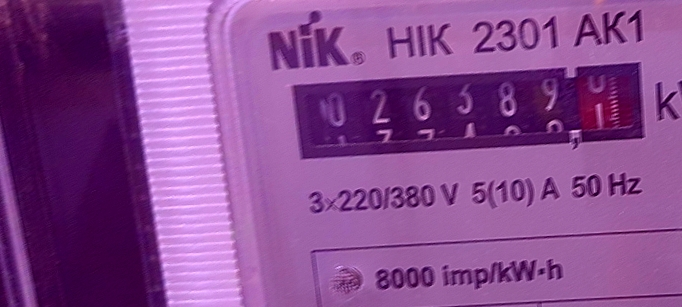0: (323, 88, 348, 129), (587, 73, 606, 94)
1: (592, 99, 606, 131)
2: (368, 86, 393, 126)
3: (455, 81, 473, 117)
6: (412, 83, 431, 123)
8: (497, 79, 519, 118)
9: (540, 76, 559, 111)
screen: (277, 50, 660, 171)
